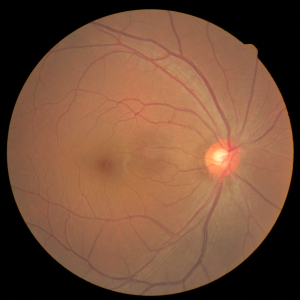healthy_eye: (37, 96, 270, 211)
